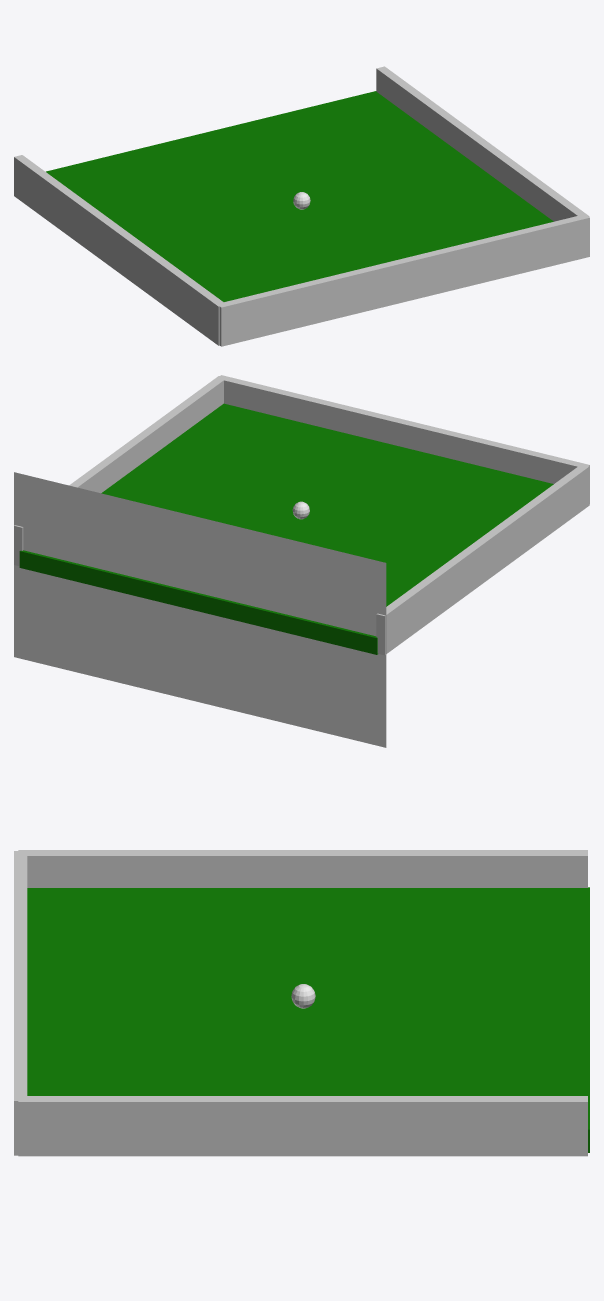
Rendered from start.gltf.
3 views of the same model, one above another, from view 1: azimuth 30°, elevation 25°; view 2: azimuth 150°, elevation 25°; view 3: azimuth 270°, elevation 25° (orthographic). The views are drawn at different scales.
Parts seen in each view (by area): view 1: Cube, Cube.003, Cube.001, Cube.002; view 2: obj_snap.001, Cube, Cube.001, Cube.003, Cube.002; view 3: Cube, Cube.002, Cube.001, Cube.003.
Part boxes in pixels (x1,y1,x2,y2): Cube: (46,91,553,301); Cube.003: (217,214,589,346); Cube.001: (14,155,226,345); Cube.002: (376,66,589,221); obj_snap.001: (14,472,386,747); Cube: (19,403,553,654); Cube.001: (376,464,589,655); Cube.003: (217,375,589,503); Cube.002: (14,376,226,566); Cube: (27,887,589,1152); Cube.002: (18,1096,587,1156); Cube.001: (18,850,587,887); Cube.003: (14,851,27,1155).
Bounding box in the file's own units: 4.21 × 2 × 4.06.
